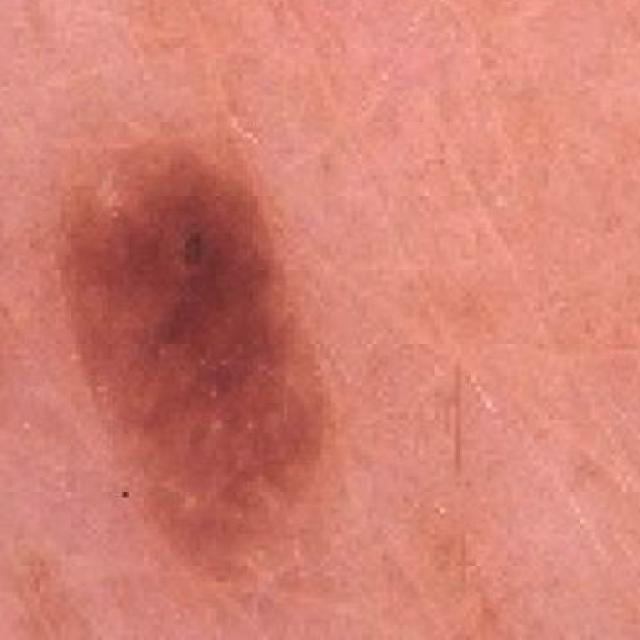BKL: (0, 44, 393, 640)
